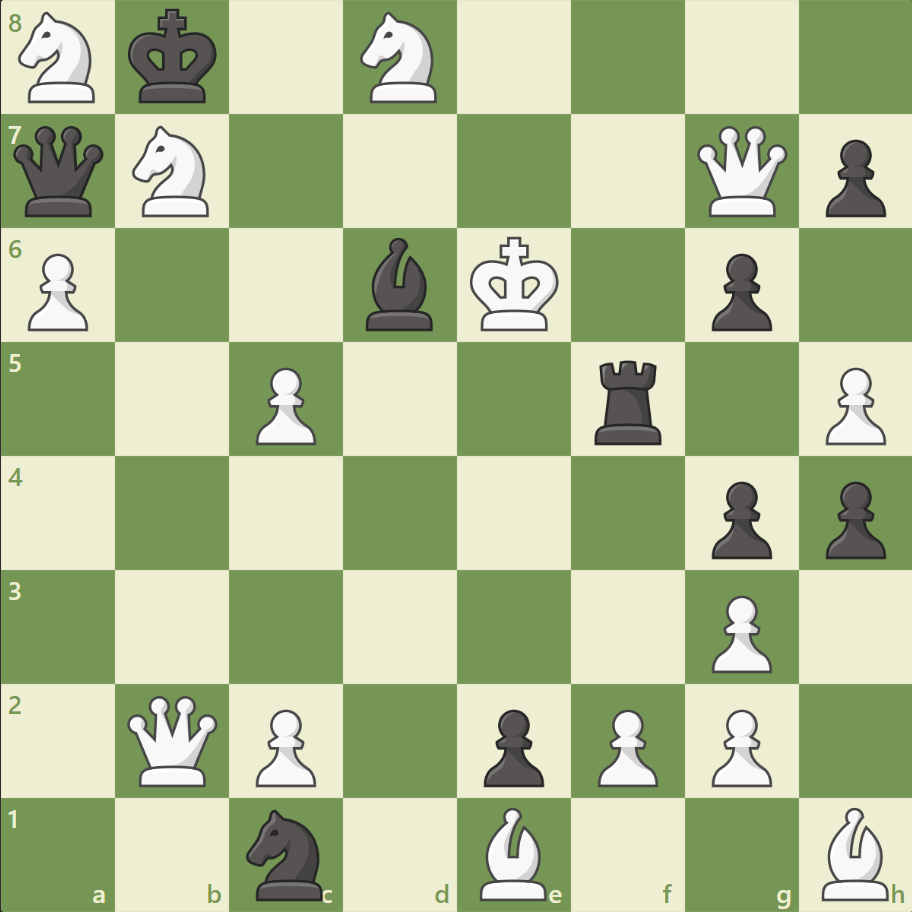B: (471, 801, 555, 904), (812, 801, 896, 904)
K: (465, 231, 565, 339)
N: (351, 7, 449, 110), (124, 121, 222, 223), (11, 7, 108, 110)
P: (20, 246, 95, 337), (247, 359, 322, 450), (701, 586, 776, 677), (247, 700, 322, 791), (701, 700, 776, 791), (815, 359, 889, 450), (588, 700, 662, 791)
Q: (691, 122, 790, 222), (124, 690, 223, 789)
b: (358, 233, 442, 336)
k: (124, 4, 224, 112)
n: (238, 802, 335, 904)
p: (701, 246, 776, 337), (701, 473, 776, 564), (474, 700, 549, 791), (815, 132, 889, 223), (815, 473, 889, 564)
q: (10, 122, 109, 222)
r: (587, 352, 670, 449)
